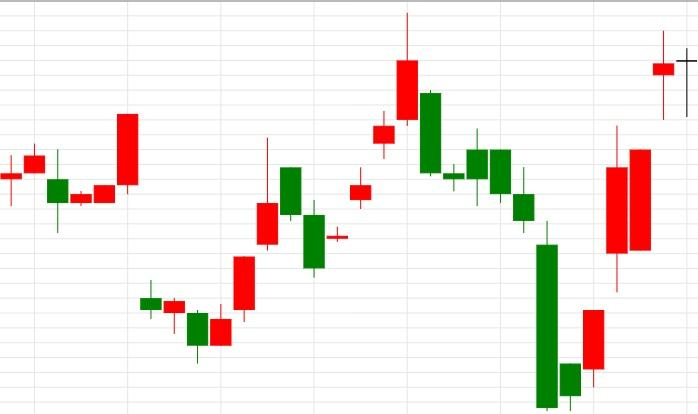three_white_soldiers_rise: (116, 113, 279, 363), (279, 111, 396, 277)
